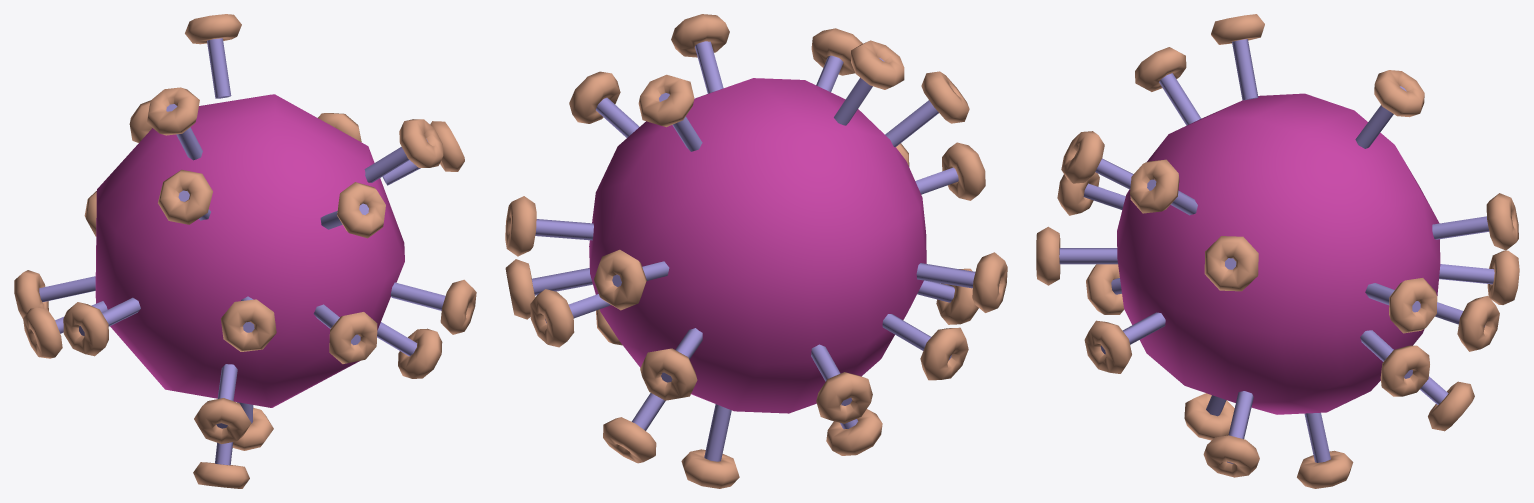
The picture shows the model from 3 angles, left to right: view 1: azimuth 30°, elevation 25°; view 2: azimuth 150°, elevation 25°; view 3: azimuth 270°, elevation 25°; orthographic projection. The views are drawn at different scales.
Bounding box in the file's own units: 1.7 × 1.68 × 1.76.
